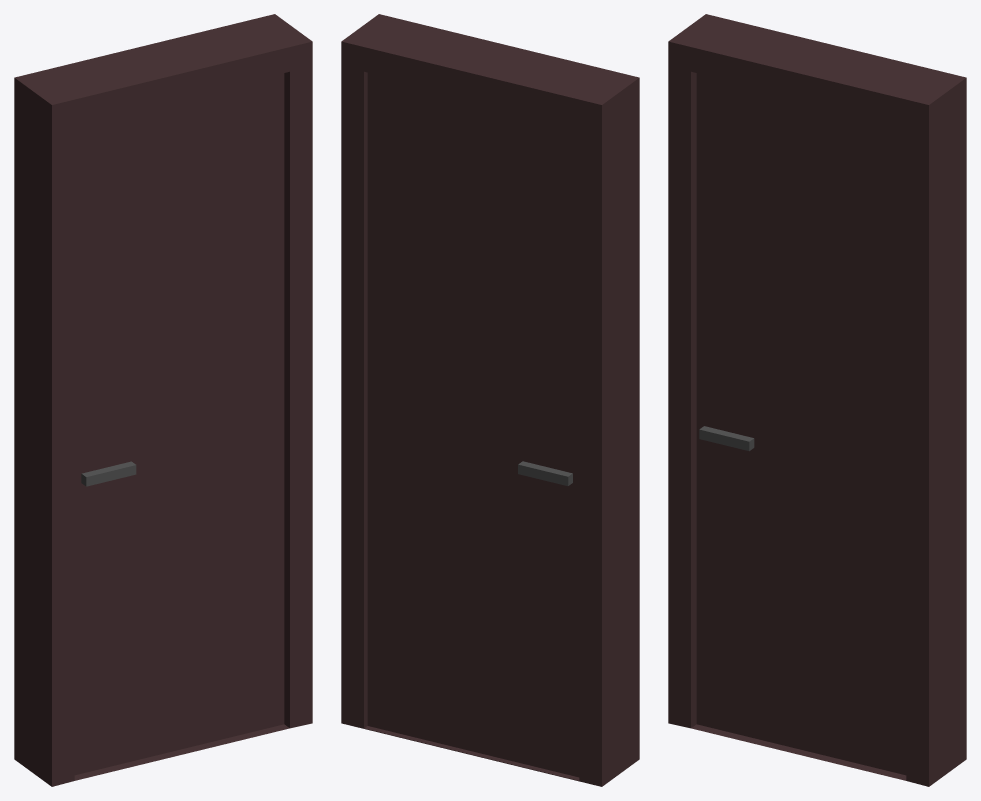
File: Door_01.fbx
3 renders of one model, left to right at view 1: azimuth 30°, elevation 25°; view 2: azimuth 150°, elevation 25°; view 3: azimuth 330°, elevation 25°, orthographic.
Parts seen in each view (by area): view 1: Door; view 2: Door; view 3: Door.
Part boxes in pixels (<box>): Door: <box>14,14,312,786</box>; Door: <box>341,14,639,786</box>; Door: <box>668,14,966,786</box>.
Size of the model in its own units: 80 by 200 by 21.51.
2 materials, 2 textured.
